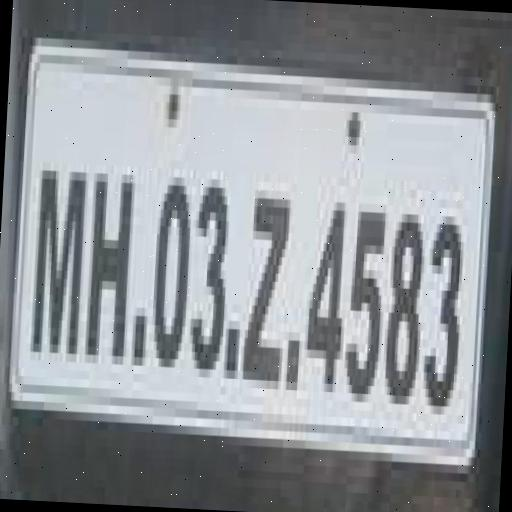number plate: (0, 45, 492, 466)
